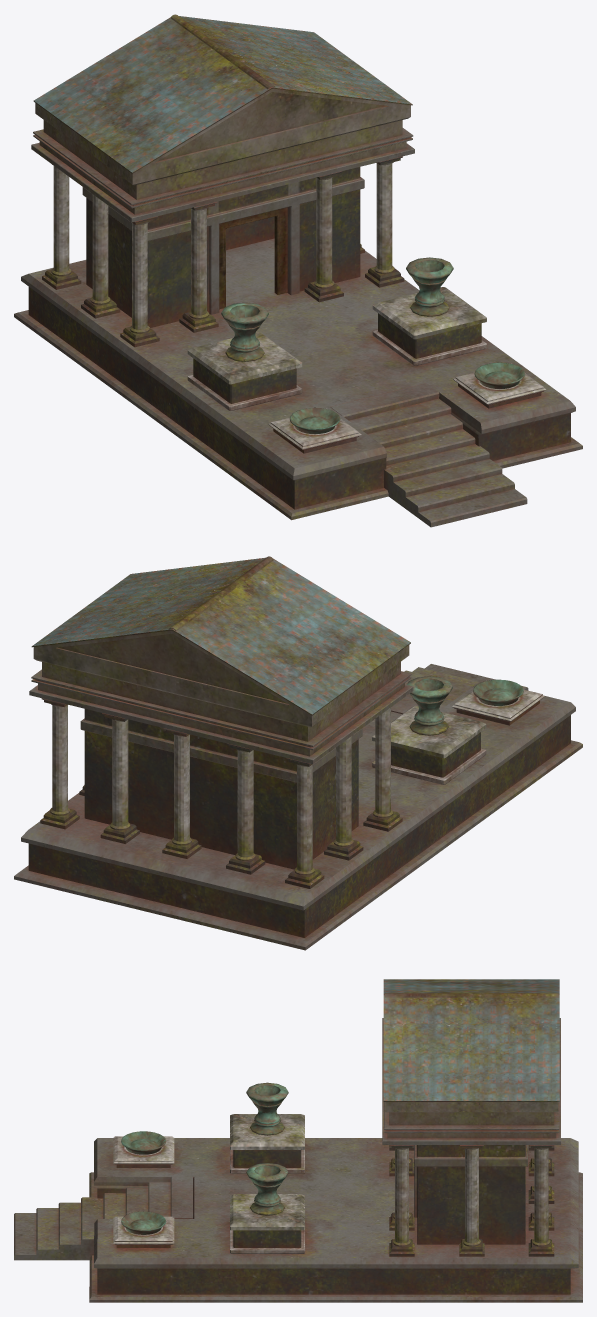
File: Ancient_Worship_Temple.obj
3 views of the same model, one above another, from view 1: azimuth 30°, elevation 25°; view 2: azimuth 150°, elevation 25°; view 3: azimuth 270°, elevation 25° (orthographic). The views are drawn at different scales.
Parts seen in each view (by area): view 1: Ancient_Worship_Temple_Cube.009; view 2: Ancient_Worship_Temple_Cube.009; view 3: Ancient_Worship_Temple_Cube.009.
Part boxes in pixels (x1,y1,x2,y2): Ancient_Worship_Temple_Cube.009: (14, 14, 582, 527); Ancient_Worship_Temple_Cube.009: (14, 556, 582, 950); Ancient_Worship_Temple_Cube.009: (14, 979, 582, 1302).
Bounding box in the file's own units: 8.89 × 8.07 × 16.9.
